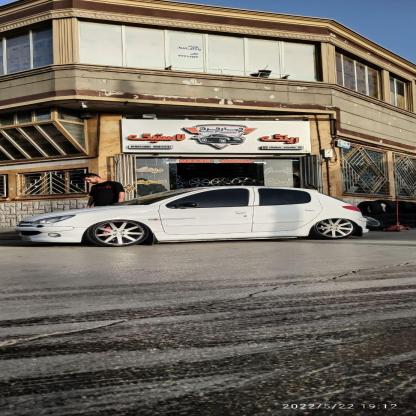Car: (0, 180, 382, 244)
